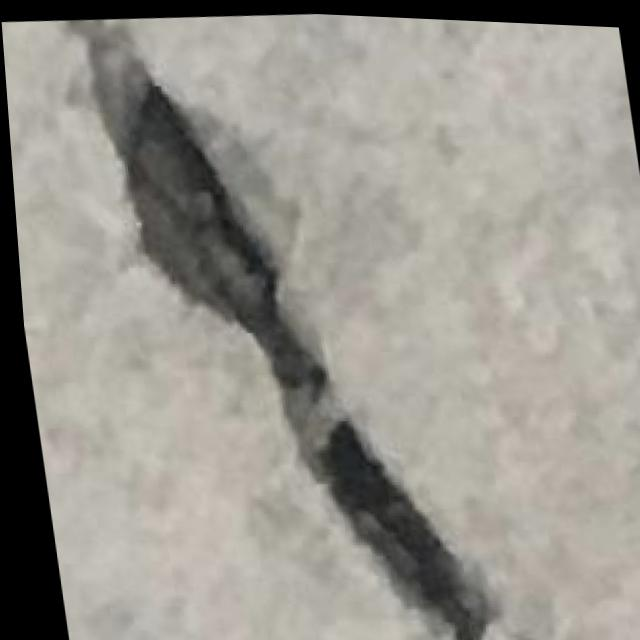Crack: (55, 2, 518, 640)
